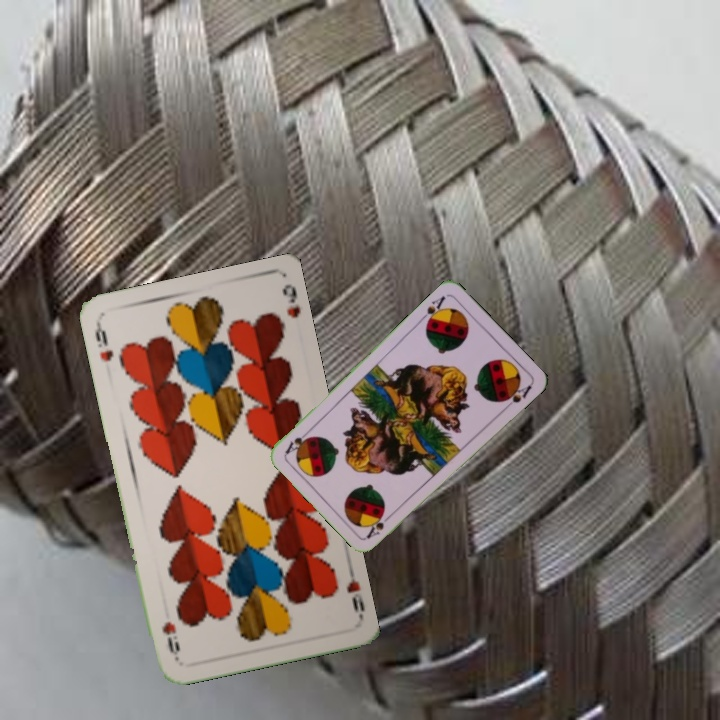H9: (342, 561, 367, 620), (91, 319, 116, 364)
SA: (416, 292, 448, 328), (363, 509, 395, 541)
